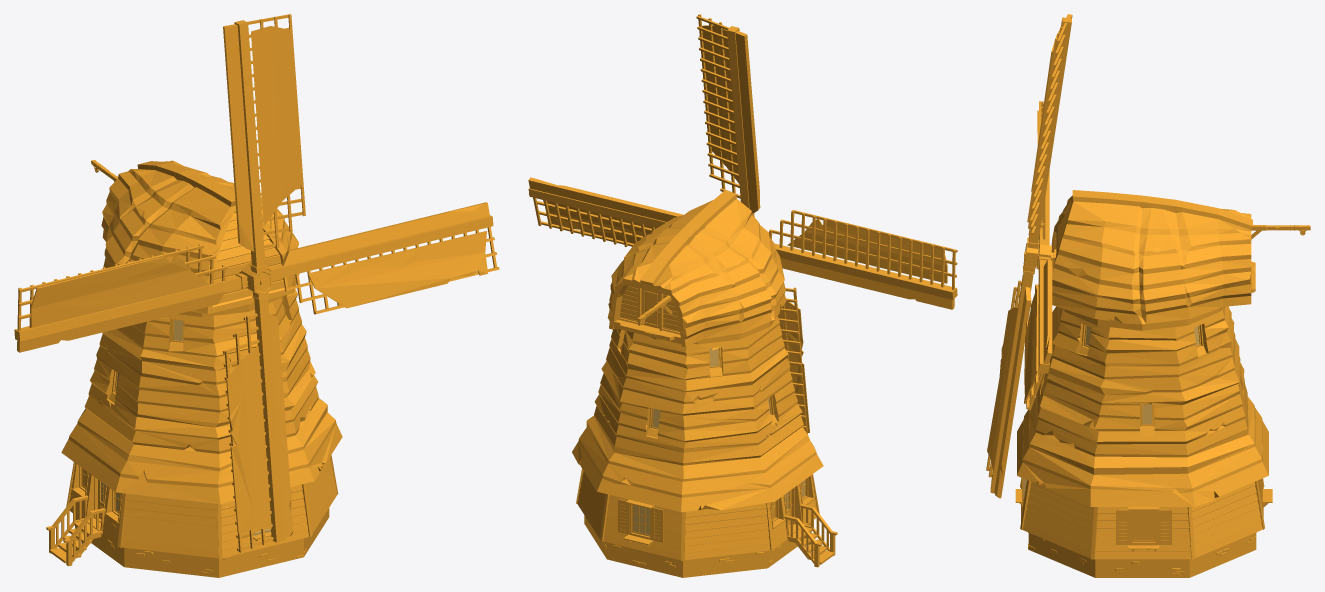
Rendered from SM_Mill_Netherland.fbx.
3 renders of one model, left to right at view 1: azimuth 30°, elevation 25°; view 2: azimuth 150°, elevation 25°; view 3: azimuth 270°, elevation 25°, orthographic. The views are drawn at different scales.
Visible parts, largest first — view 1: mill-netherland-base, mill-netherland-sail; view 2: mill-netherland-base, mill-netherland-sail; view 3: mill-netherland-base, mill-netherland-sail, window-sliding-b-frame-survival.002, window-sliding-b-frame-survival.008.
Part boxes in pixels (x1,y1,x2,y2): mill-netherland-base: (46,160,342,577); mill-netherland-sail: (14,14,499,552); mill-netherland-base: (572,191,837,577); mill-netherland-sail: (528,14,957,434); mill-netherland-base: (1015,190,1310,577); mill-netherland-sail: (986,14,1072,498); window-sliding-b-frame-survival.002: (1157,509,1171,544); window-sliding-b-frame-survival.008: (1116,509,1130,544).
Bounding box in the file's own units: 21.66 × 23.27 × 13.39.
